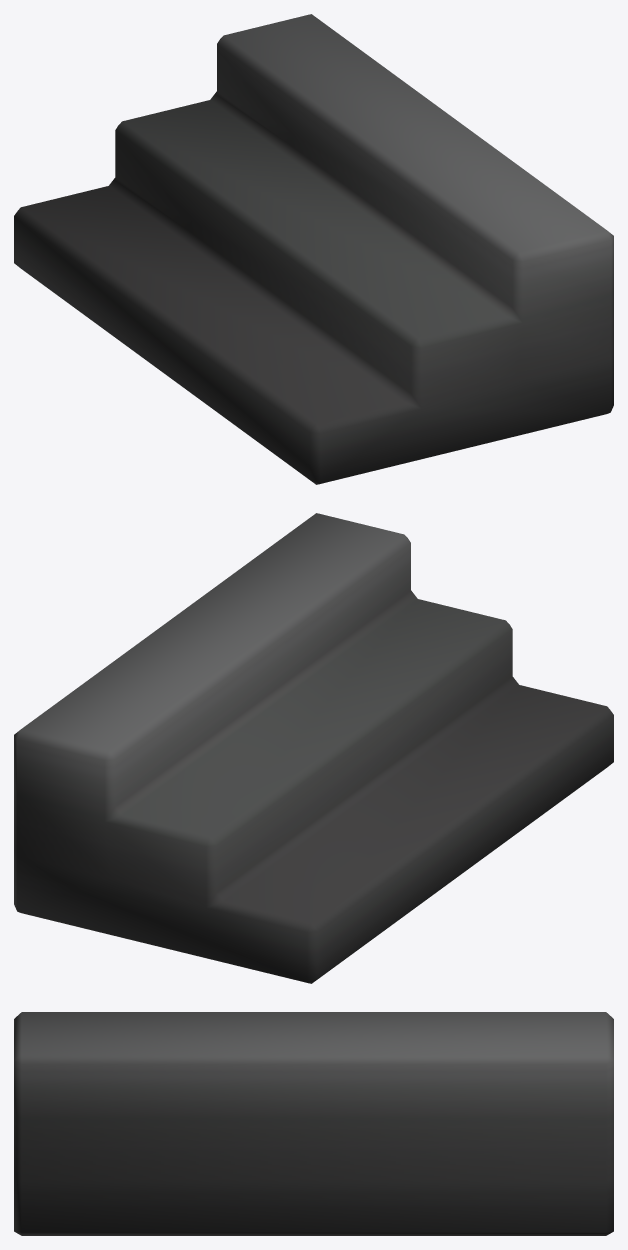
The model's file is Stairs_2.glb.
3 views of the same model, one above another, from view 1: azimuth 30°, elevation 25°; view 2: azimuth 150°, elevation 25°; view 3: azimuth 270°, elevation 25° (orthographic).
Visible parts, largest first — view 1: Stairs_2; view 2: Stairs_2; view 3: Stairs_2.
Boxes of the visible parts, box(x1,y1,x2,y2) form: Stairs_2: box(14, 14, 613, 484); Stairs_2: box(14, 513, 613, 983); Stairs_2: box(14, 1012, 613, 1235).
Bounding box in the file's own units: 0.8133 × 0.4689 × 1.41.
Materials: 1 (1 with a texture image).
